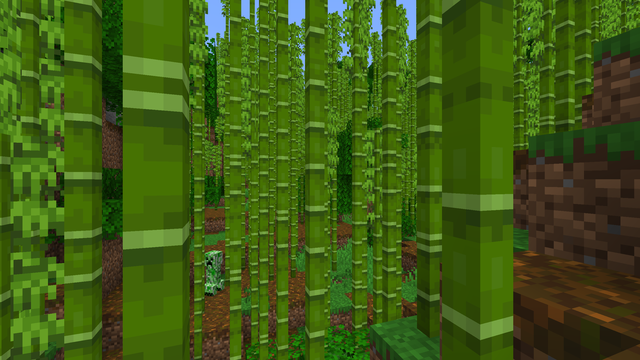creepers: (205, 248, 221, 295)
